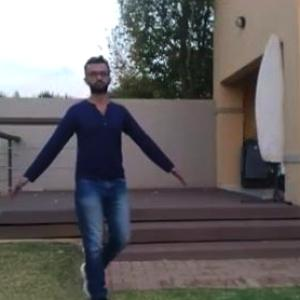land: (23, 71, 168, 294)
